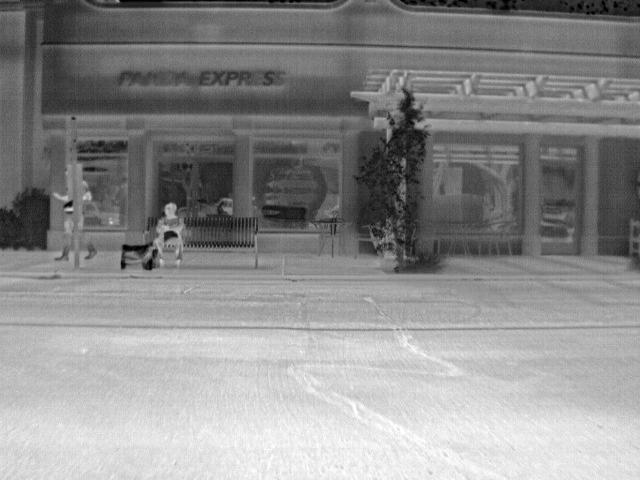person: (152, 201, 188, 269), (56, 190, 73, 264)
